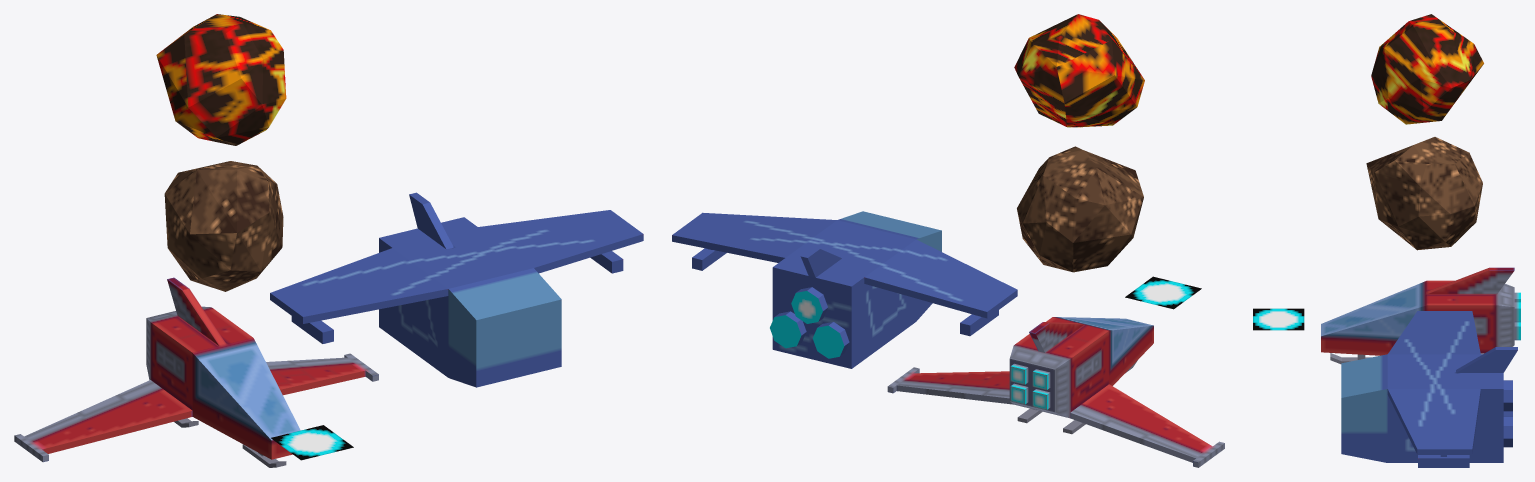
File: ships.fbx
3 views of the same model, side by side, from view 1: azimuth 30°, elevation 25°; view 2: azimuth 150°, elevation 25°; view 3: azimuth 270°, elevation 25° (orthographic). The views are drawn at different scales.
Visible parts, largest first — view 1: ShipBig, ShipSmall, Icosphere.001, Icosphere, BulletSmallBlue; view 2: ShipBig, ShipSmall, Icosphere, Icosphere.001, BulletSmallBlue; view 3: ShipBig, Icosphere, ShipSmall, Icosphere.001, BulletSmallBlue.
Part boxes in pixels (<box>): ShipBig: <box>270,192,643,387</box>; ShipSmall: <box>14,277,378,462</box>; Icosphere.001: <box>156,14,286,145</box>; Icosphere: <box>164,161,283,291</box>; BulletSmallBlue: <box>271,425,353,460</box>; ShipBig: <box>672,211,1017,368</box>; ShipSmall: <box>887,317,1224,467</box>; Icosphere: <box>1017,146,1143,272</box>; Icosphere.001: <box>1014,14,1144,127</box>; BulletSmallBlue: <box>1125,276,1201,309</box>; ShipBig: <box>1341,311,1517,467</box>; Icosphere: <box>1366,137,1482,250</box>; ShipSmall: <box>1321,267,1520,355</box>; Icosphere.001: <box>1371,14,1483,124</box>; BulletSmallBlue: <box>1253,308,1304,330</box>.
Bounding box in the file's own units: 954 × 643 × 456.
